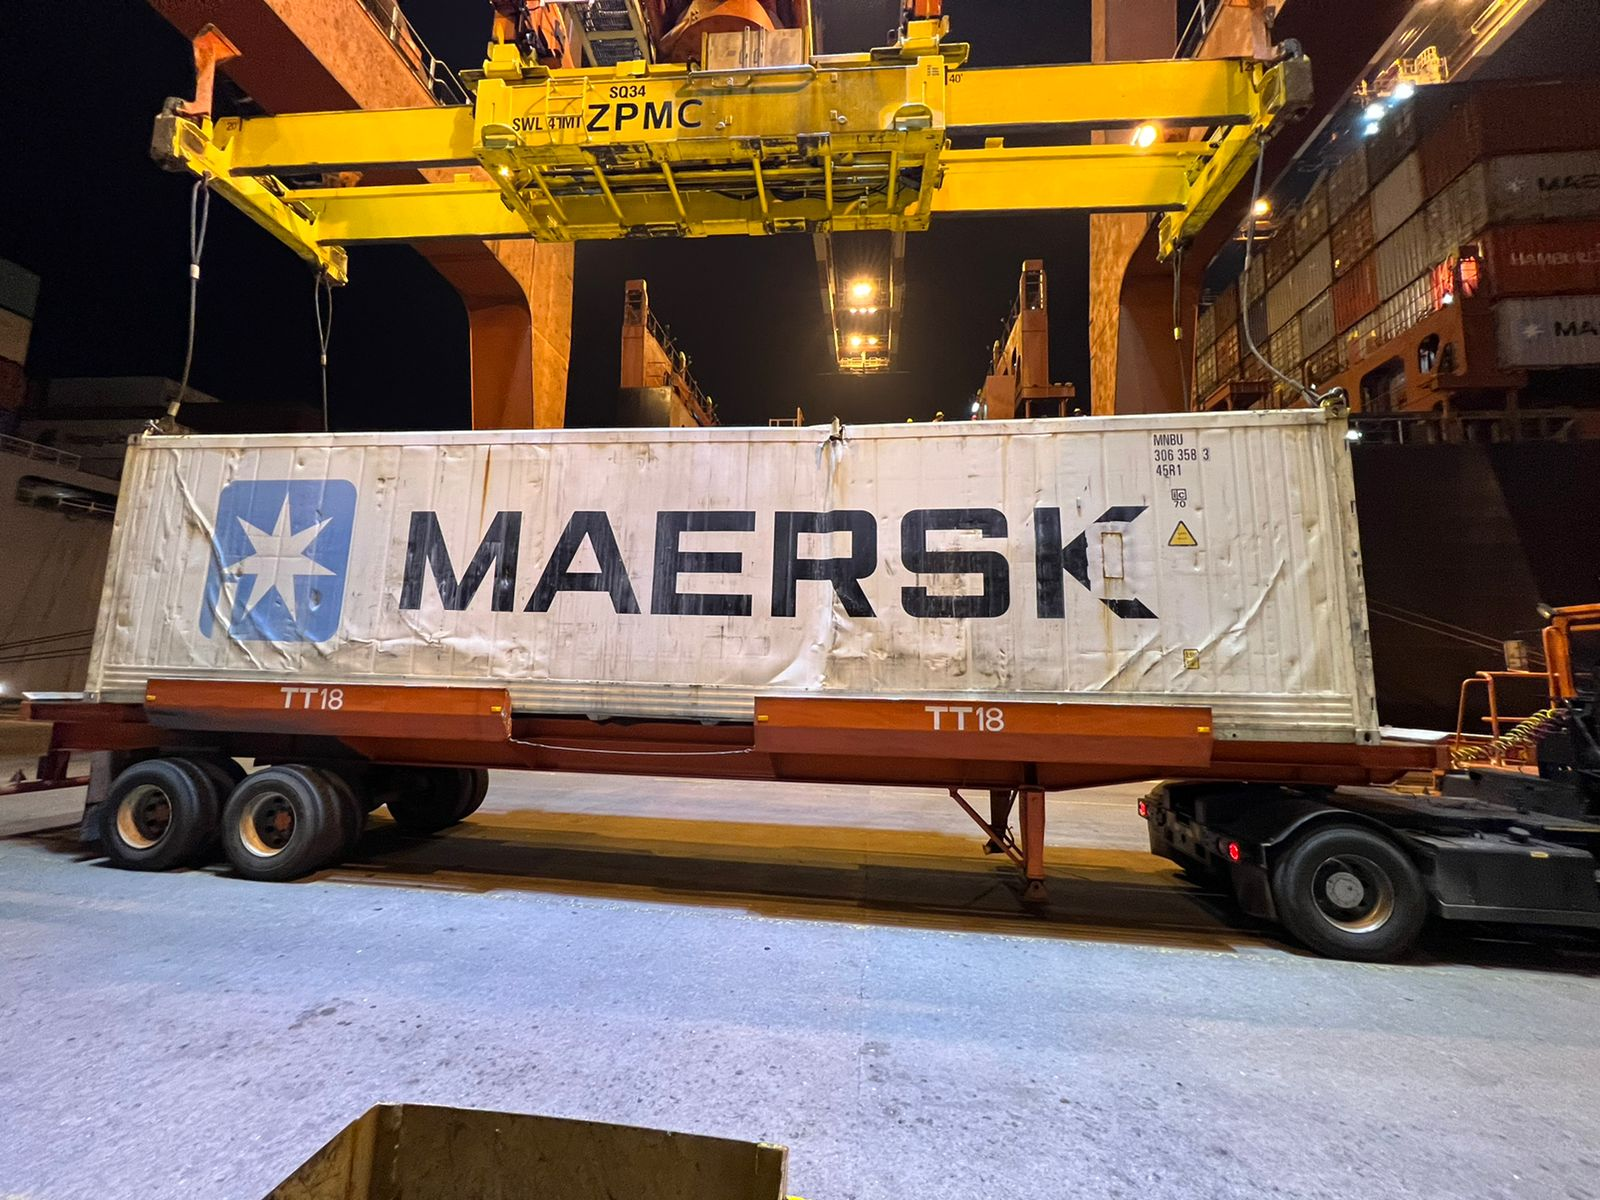bulged: (1107, 563, 1289, 691), (149, 492, 281, 648), (731, 619, 922, 682), (326, 630, 524, 683)
